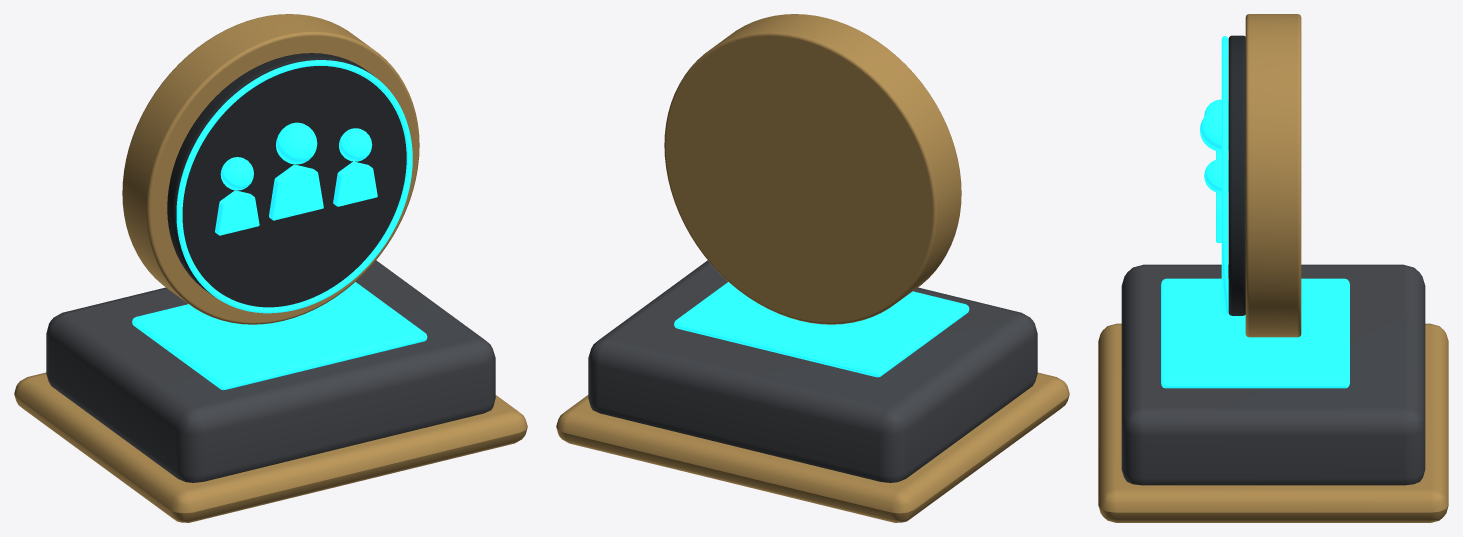
The model's file is estacoes_medalhao_equipe.glb.
3 views of the same model, side by side, from view 1: azimuth 30°, elevation 25°; view 2: azimuth 150°, elevation 25°; view 3: azimuth 270°, elevation 25° (orthographic). The views are drawn at different scales.
Visible parts, largest first — view 1: medalhao_equipe; view 2: medalhao_equipe; view 3: medalhao_equipe.
Part boxes in pixels (x1,y1,x2,y2): medalhao_equipe: (14,14,527,522); medalhao_equipe: (556,14,1069,522); medalhao_equipe: (1098,14,1448,522).
Size of the model in its own units: 0.235 by 0.252 by 0.195.
